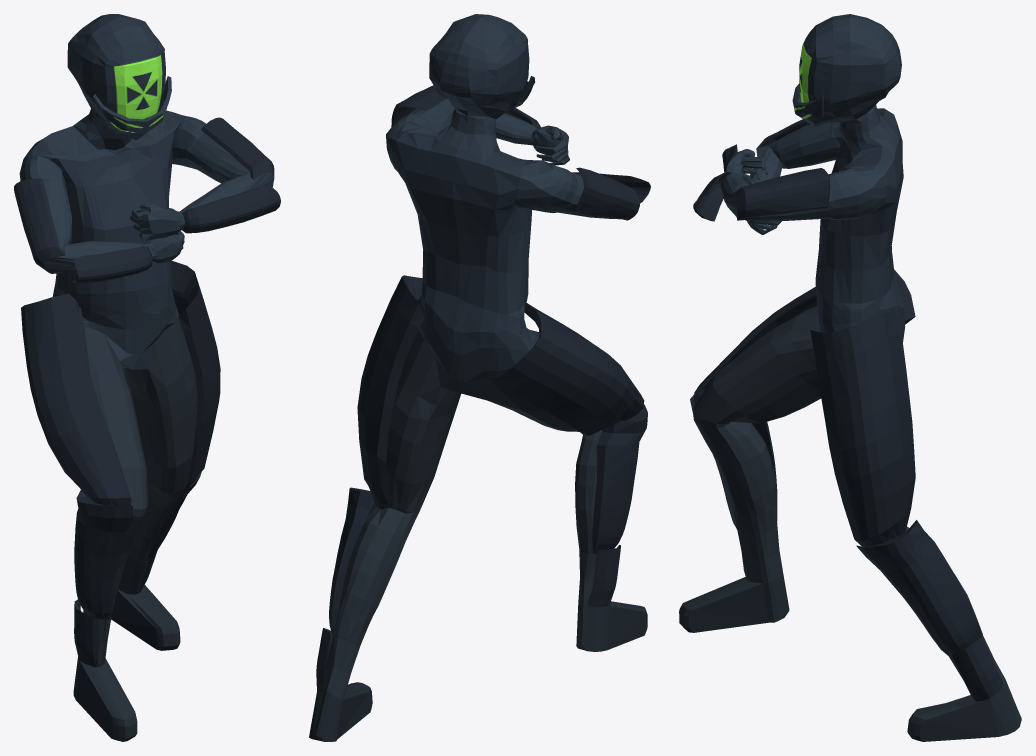
Rendered from Bastion_WF_000022.obj.
The picture shows the model from 3 angles, left to right: view 1: azimuth 30°, elevation 25°; view 2: azimuth 150°, elevation 25°; view 3: azimuth 270°, elevation 25°; orthographic projection.
Parts seen in each view (by area): view 1: Cube.002; view 2: Cube.002; view 3: Cube.002.
Boxes of the visible parts, x1,y1,x2,y2 form: Cube.002: [14, 14, 280, 741]; Cube.002: [309, 14, 650, 741]; Cube.002: [679, 14, 1021, 741].
Bounding box in the file's own units: 1.32 × 3.7 × 1.7.
